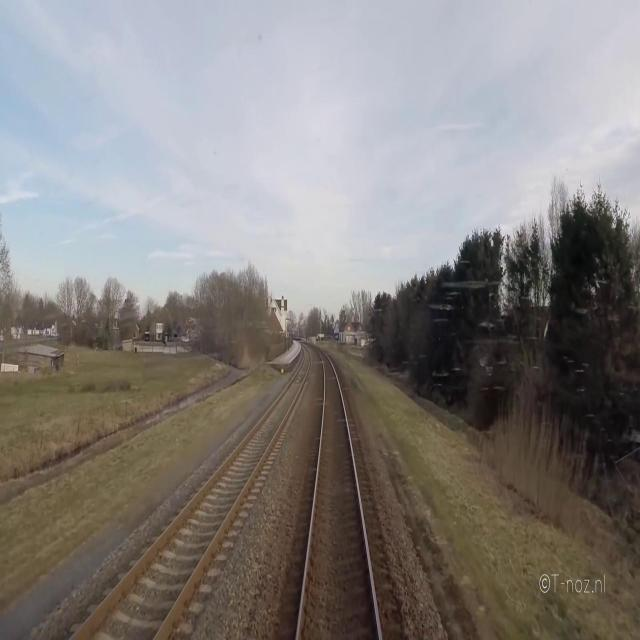rail-track: (75, 350, 308, 639), (300, 354, 377, 639)
